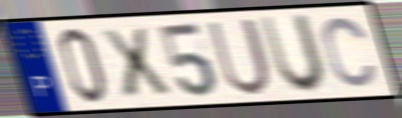0: (56, 25, 109, 106)
5: (155, 20, 220, 100)
C: (320, 14, 379, 90)
U: (256, 11, 330, 96), (204, 15, 274, 98)
X: (96, 25, 175, 101)
